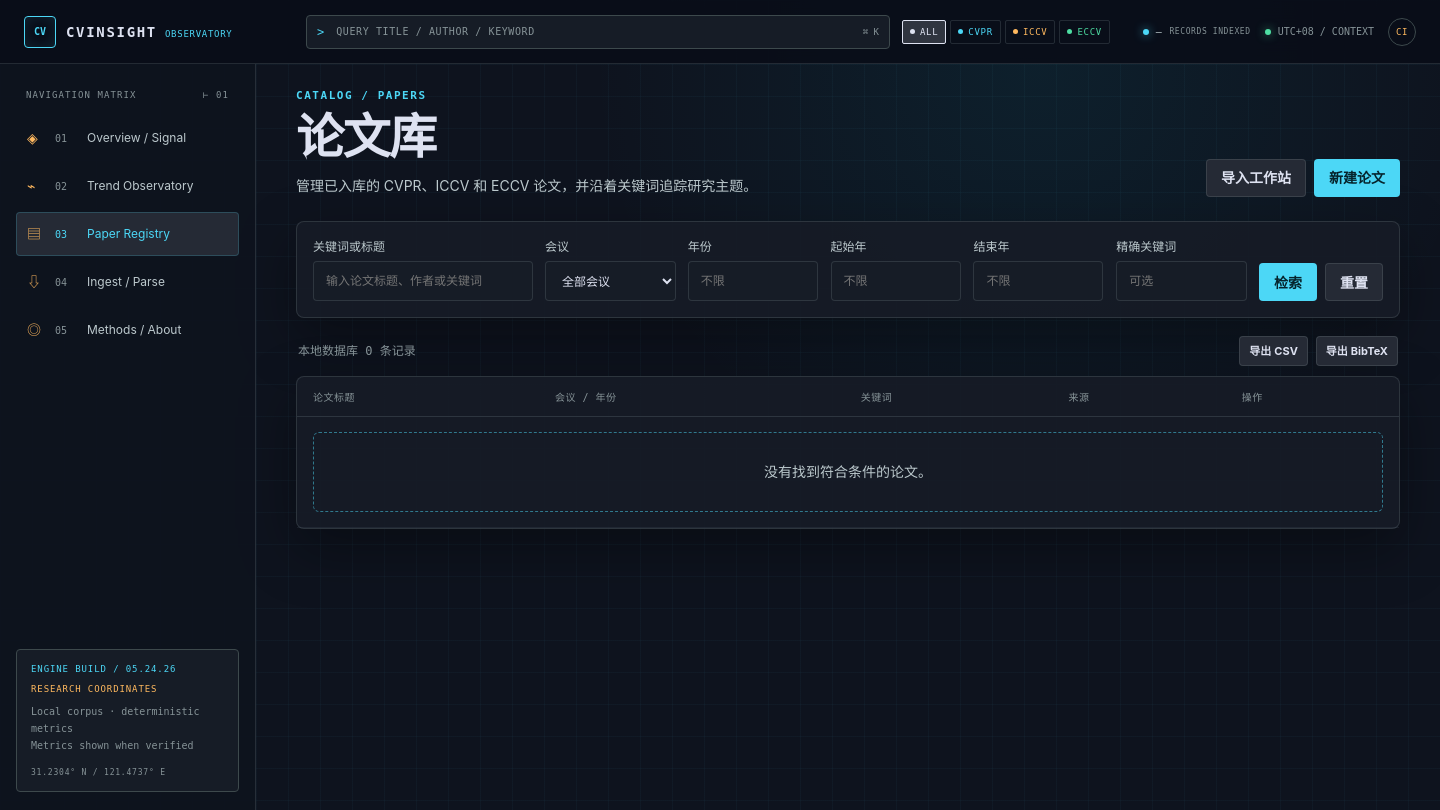
Scenario: PapersView exports › reads a JSON detail from a Blob error response
Click the button with class "export-csv" at (1274, 352), box [1239, 336, 1308, 366]
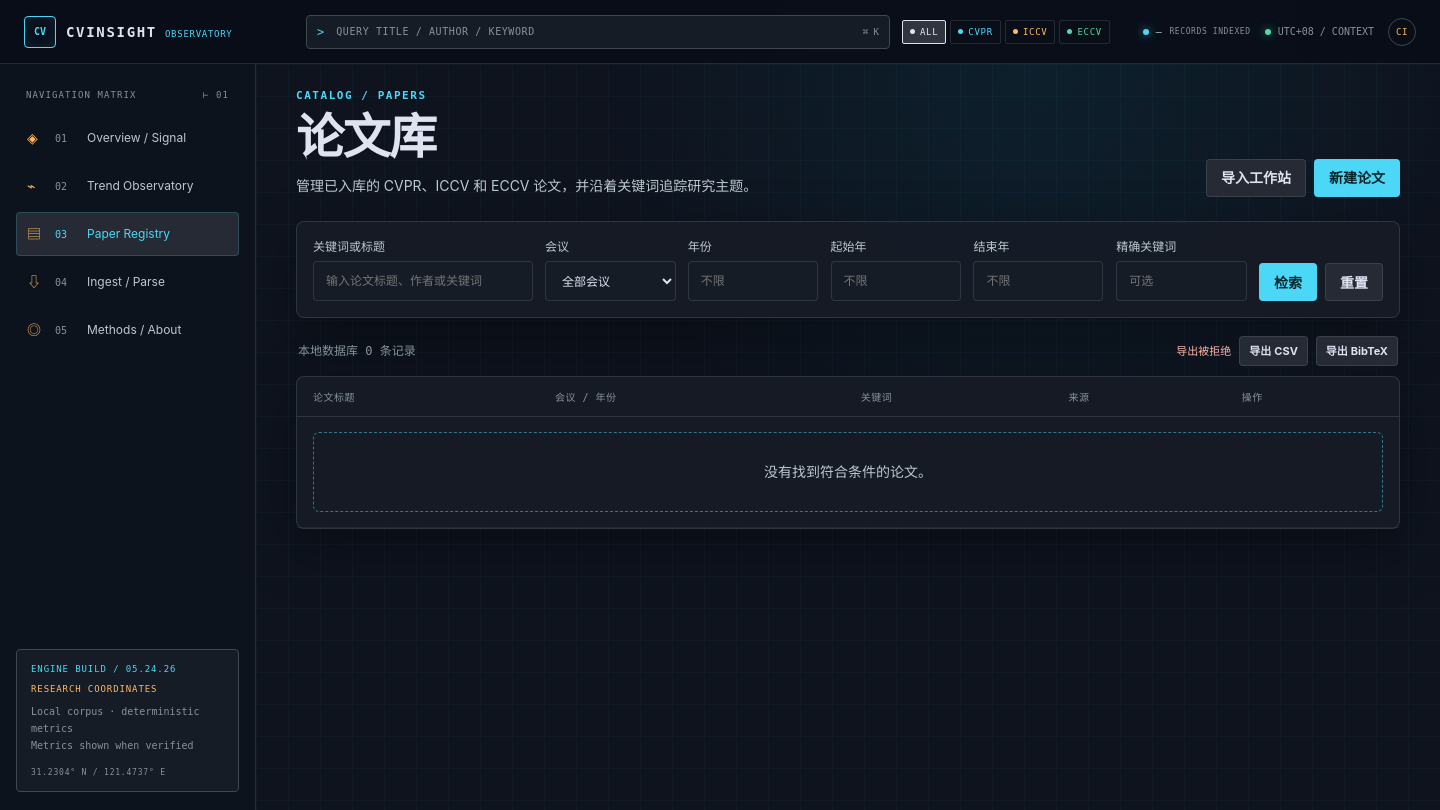
Expected: the text "导出被拒绝" is shown, [1176, 343, 1231, 360]
